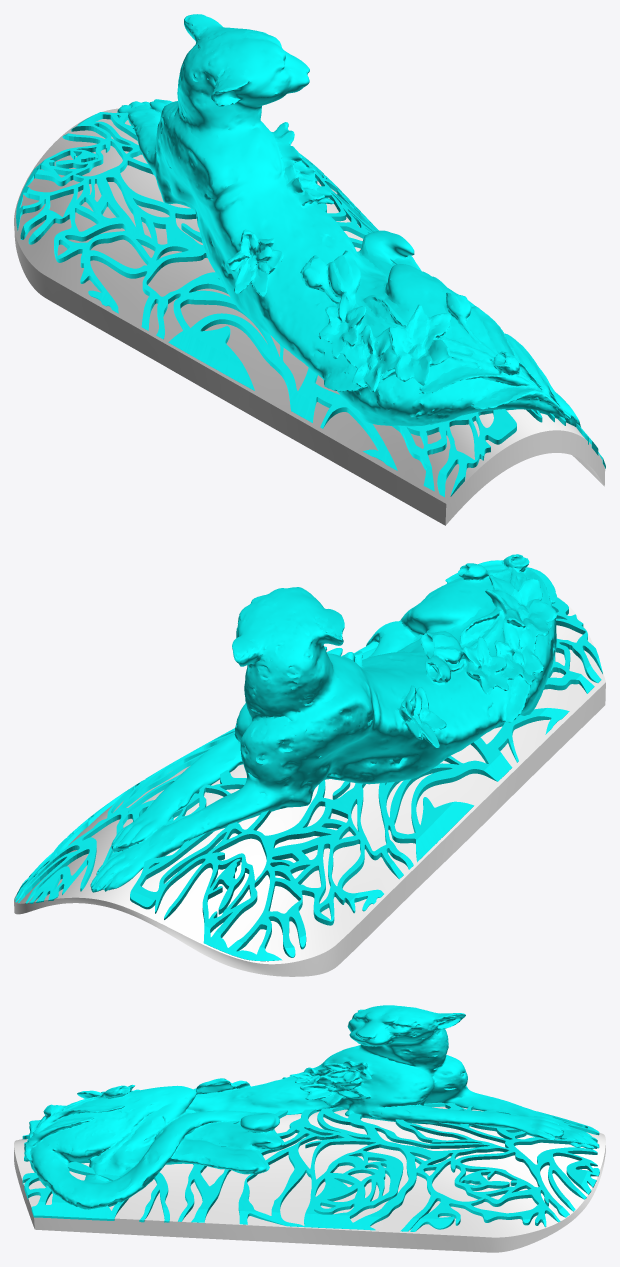
The model's file is leopard-rose-coffin-full.glb.
The picture shows the model from 3 angles, top to bottom: view 1: azimuth 30°, elevation 25°; view 2: azimuth 150°, elevation 25°; view 3: azimuth 270°, elevation 25°; orthographic projection. The views are drawn at different scales.
Size of the model in its own units: 0.0137 by 0.0125 by 0.035.
